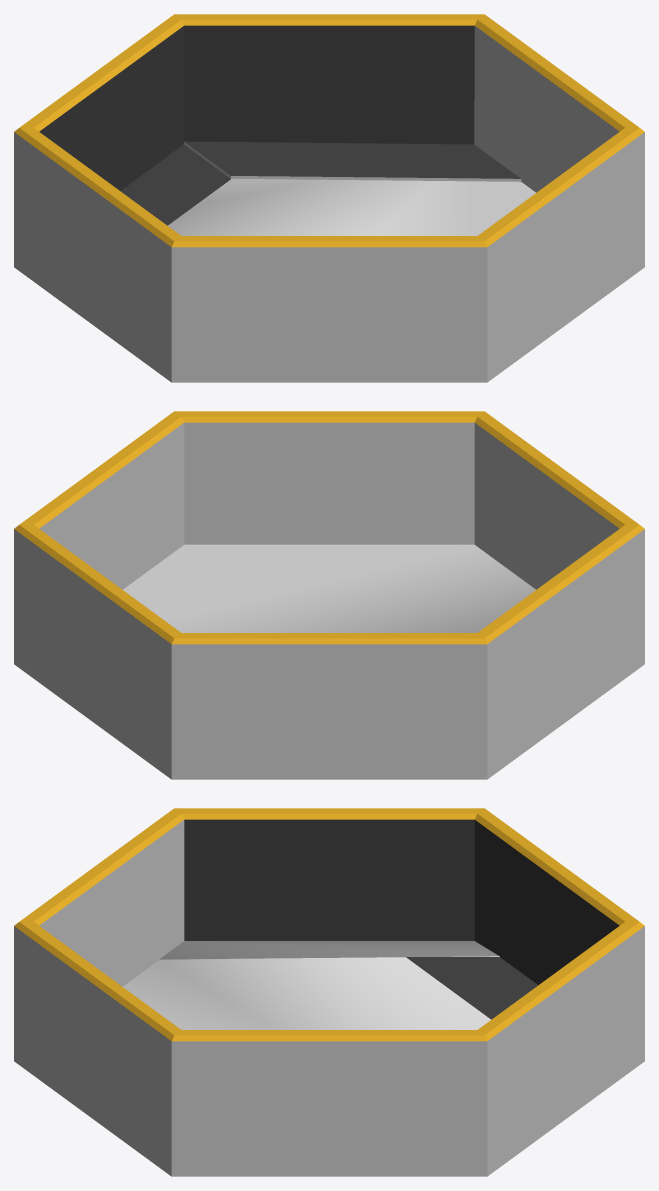
Rendered from Cell.fbx.
3 views of the same model, one above another, from view 1: azimuth 30°, elevation 25°; view 2: azimuth 150°, elevation 25°; view 3: azimuth 270°, elevation 25° (orthographic).
Parts seen in each view (by area): view 1: Cylinder.001; view 2: Cylinder.001; view 3: Cylinder.001.
Boxes of the visible parts, <box> form: Cylinder.001: <box>14,14,644,382</box>; Cylinder.001: <box>14,411,644,779</box>; Cylinder.001: <box>14,808,644,1176</box>.
Size of the model in its own units: 174 by 49.09 by 201.
